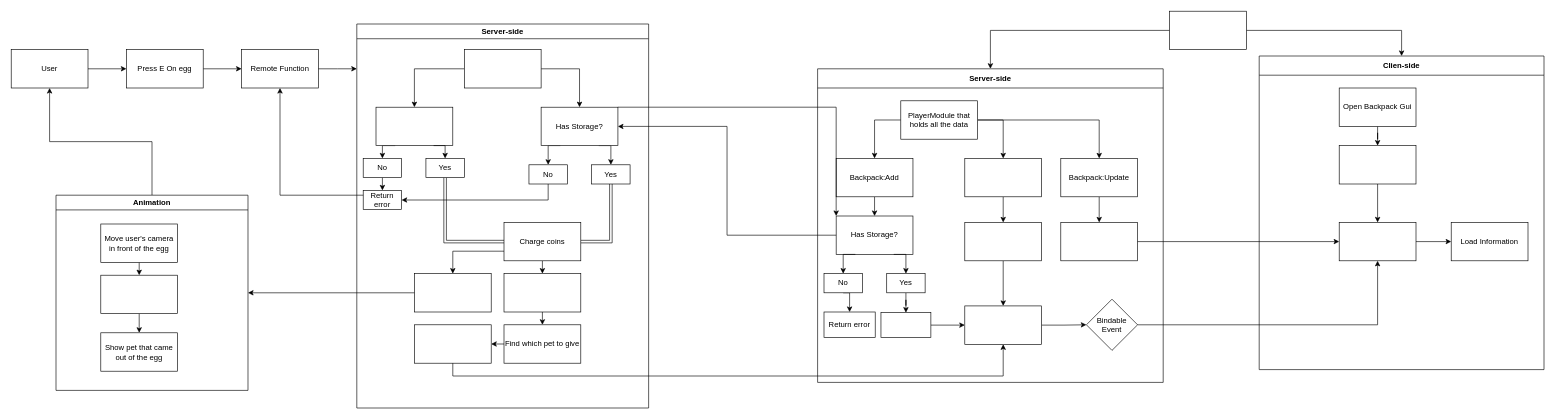
This 1555x419 diagram has some shape labels left out. Here are the shapes that lost their labels. From the top down, the box of each, then its label:
(1169, 11, 1246, 50): Backpack
(464, 49, 541, 88): Send event to the server
(375, 107, 453, 146): Can buy?
(964, 158, 1042, 197): Backpack:Remove
(1339, 145, 1416, 184): Fetch data from server
(964, 222, 1042, 261): Removes pet from data
(1060, 222, 1138, 261): Send info to client
(1339, 222, 1416, 261): Get data
(100, 275, 178, 314): Play hatching animation
(414, 273, 491, 312): Send animation to play in the client
(503, 273, 581, 312): Calculate rarity
(414, 324, 491, 363): Give pet to user's backpack
(880, 312, 931, 338): Update data
(964, 305, 1042, 344): Update Client
